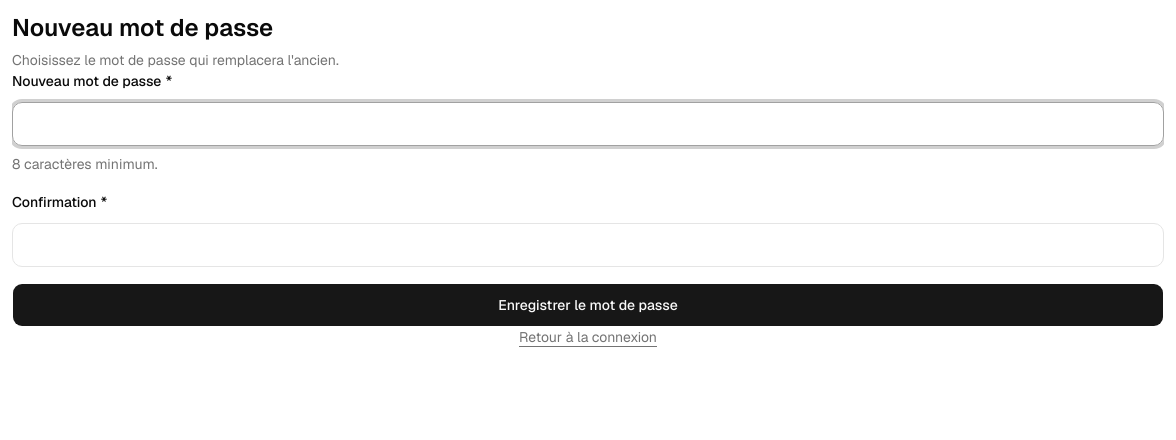
Test case: ResetPasswordScreen › reads the SDK's bad_jwt as an expired link, not a network problem
Type "nouveaumotdepasse" into the password field labelled "Nouveau mot de passe". click: (588, 124)
box: 12,102 -> 1164,146
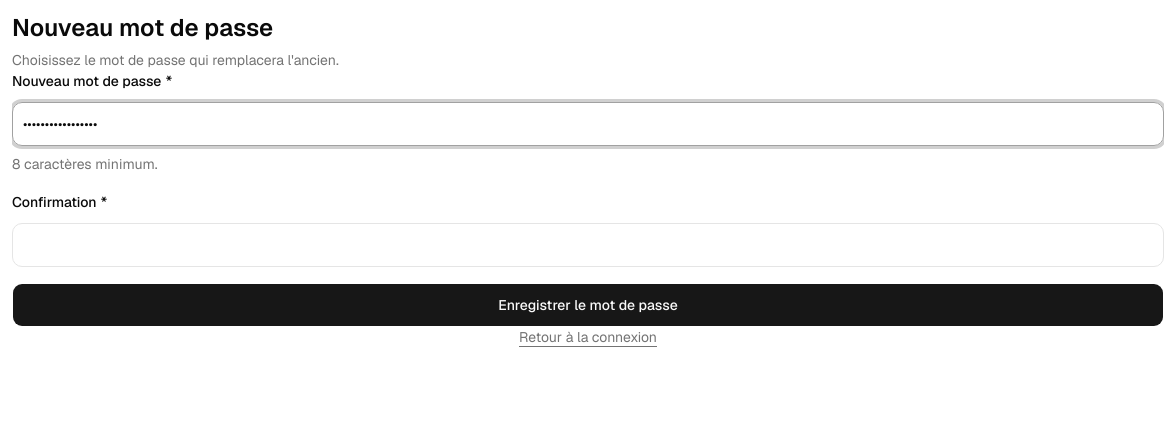
Type "nouveaumotdepasse" into the password field labelled "Confirmation". click: (588, 245)
box: 12,223 -> 1164,267
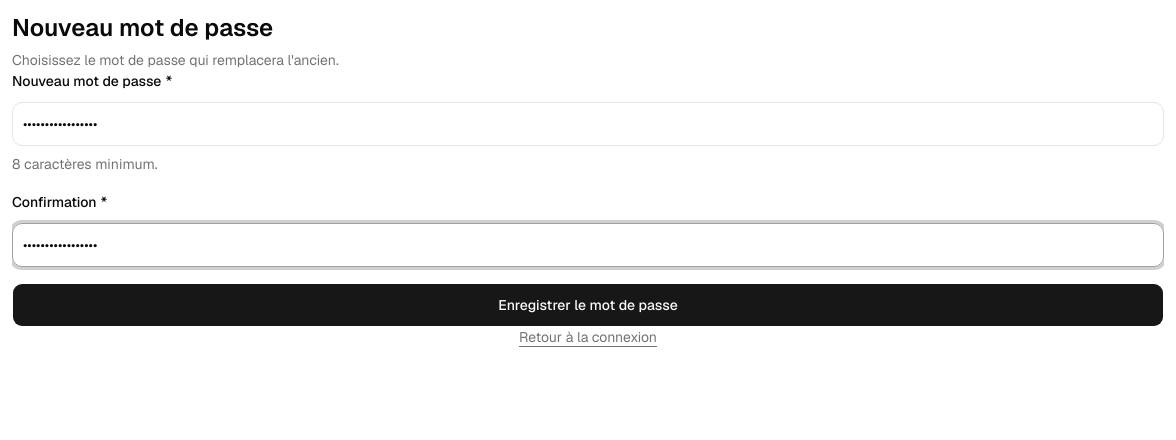
Click the button "Enregistrer le mot de passe". click: (588, 305)
box: 12,283 -> 1164,327
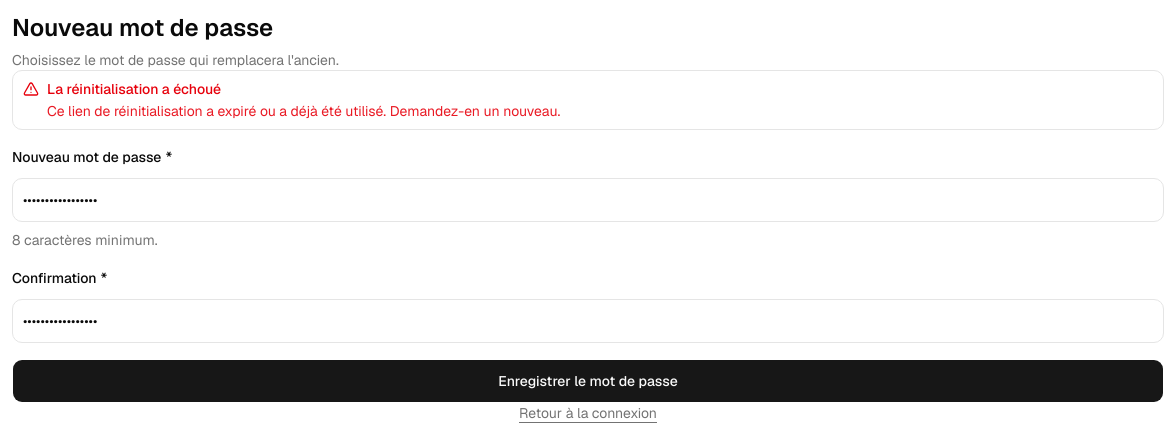
Now the text "Ce lien de réinitialisation a expiré ou a déjà été utilisé. Demandez-en un nouveau." is shown, box 47,102 -> 560,120
